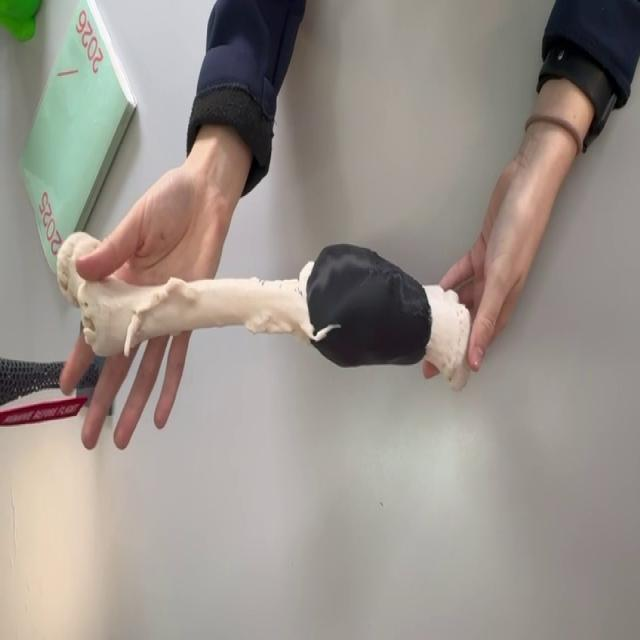bones: (57, 232, 470, 390)
